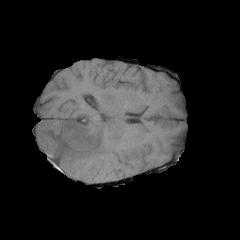glioma: (38, 118, 149, 171)
